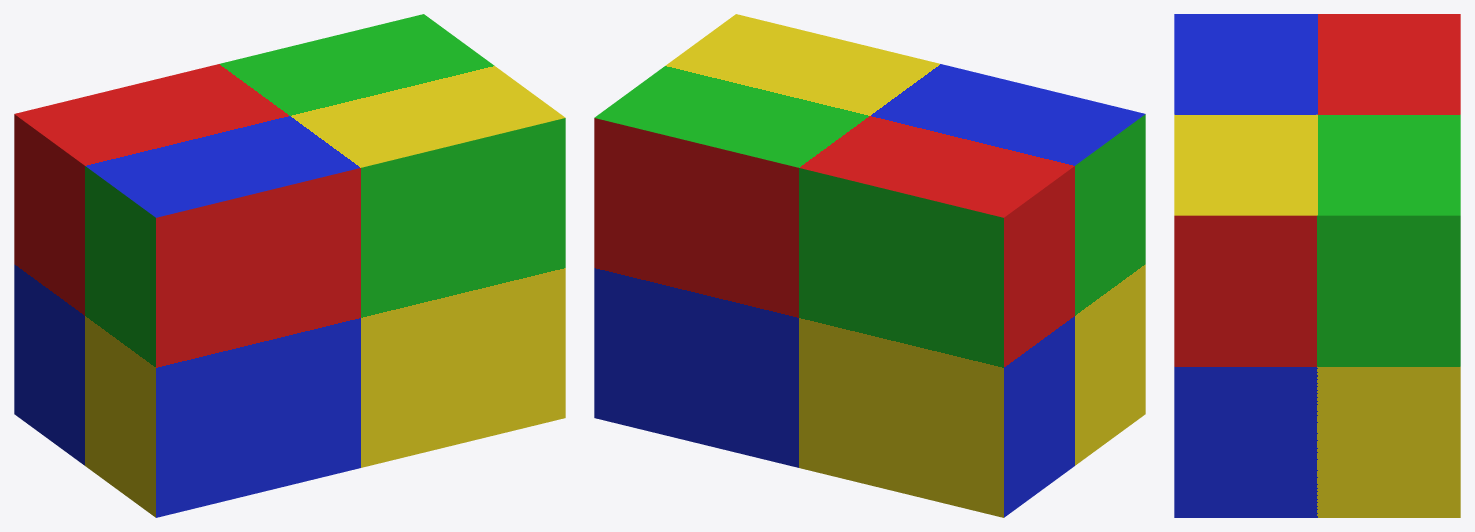
The picture shows the model from 3 angles, left to right: view 1: azimuth 30°, elevation 25°; view 2: azimuth 150°, elevation 25°; view 3: azimuth 270°, elevation 25°; orthographic projection.
Visible parts, largest first — view 1: world; view 2: world; view 3: world.
Boxes of the visible parts, x1,y1,x2,y2 form: world: [14, 14, 565, 517]; world: [594, 14, 1145, 517]; world: [1174, 14, 1460, 517].
Size of the model in its own units: 2 by 1.4 by 1.2.
1 material, 1 textured.
